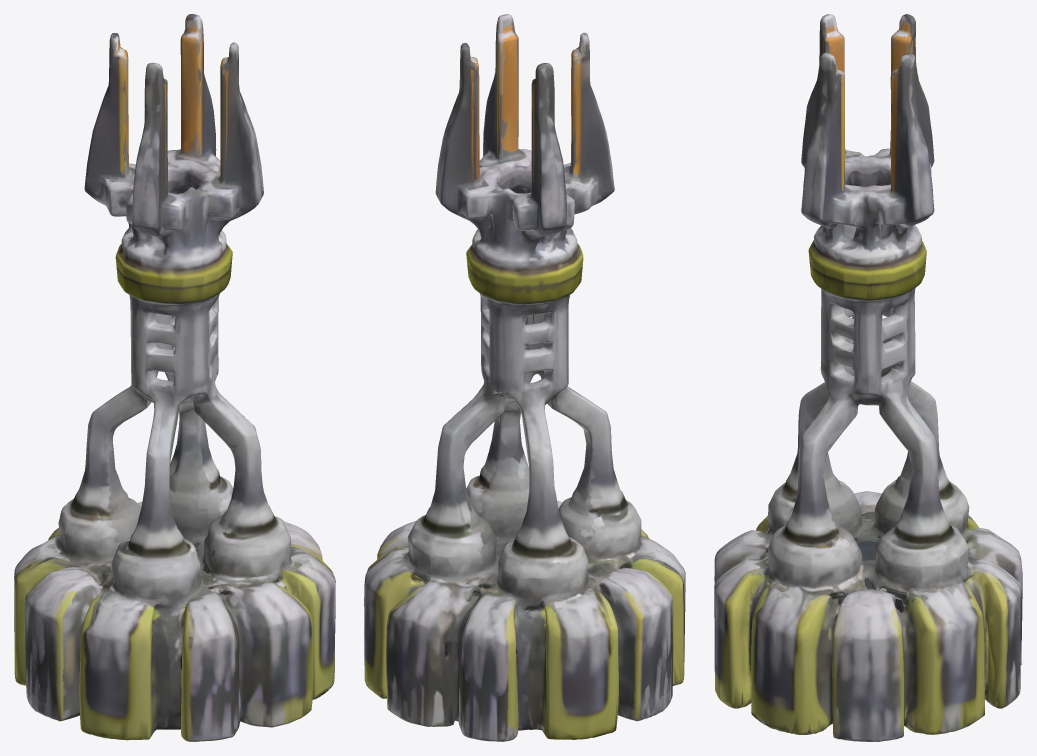
The model's file is crack.fbx.
3 renders of one model, left to right at view 1: azimuth 30°, elevation 25°; view 2: azimuth 150°, elevation 25°; view 3: azimuth 270°, elevation 25°, orthographic.
Parts seen in each view (by area): view 1: texture_pbr_v128.001; view 2: texture_pbr_v128.001; view 3: texture_pbr_v128.001.
Part boxes in pixels (left/top/right/bottom): texture_pbr_v128.001: left=14, top=14, right=335, bottom=741; texture_pbr_v128.001: left=364, top=14, right=685, bottom=741; texture_pbr_v128.001: left=714, top=14, right=1022, bottom=741.
Size of the model in its own units: 50.21 by 109 by 47.67.
Materials: 1 (1 with a texture image).
